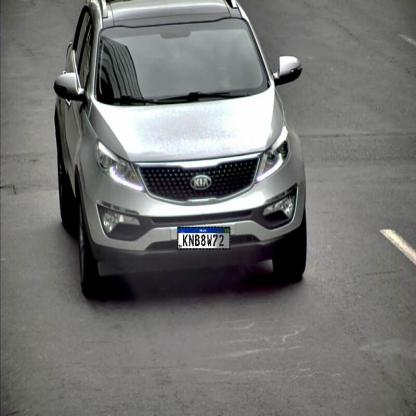PlacaM: (178, 226, 230, 249)
